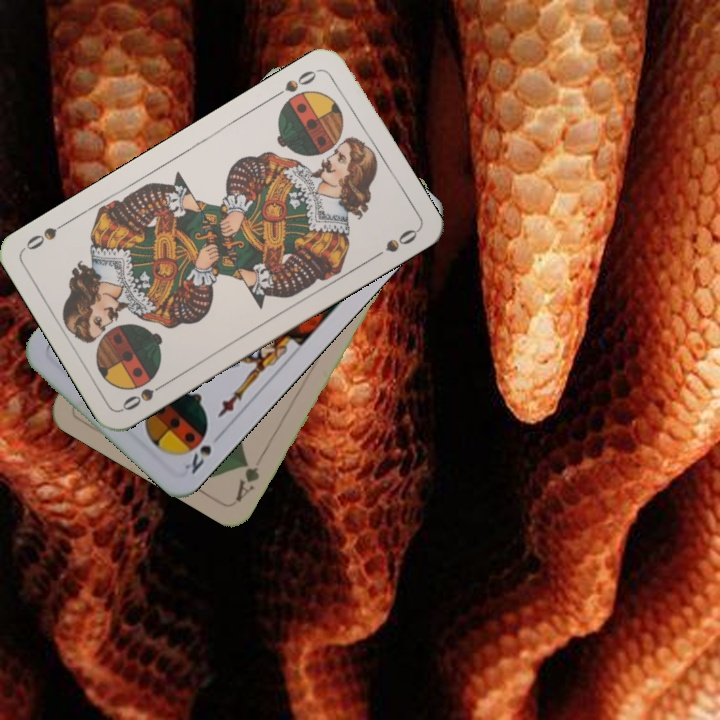GA: (231, 456, 262, 505)
SK: (180, 441, 214, 477)
SO: (117, 377, 172, 414), (268, 64, 322, 101)
